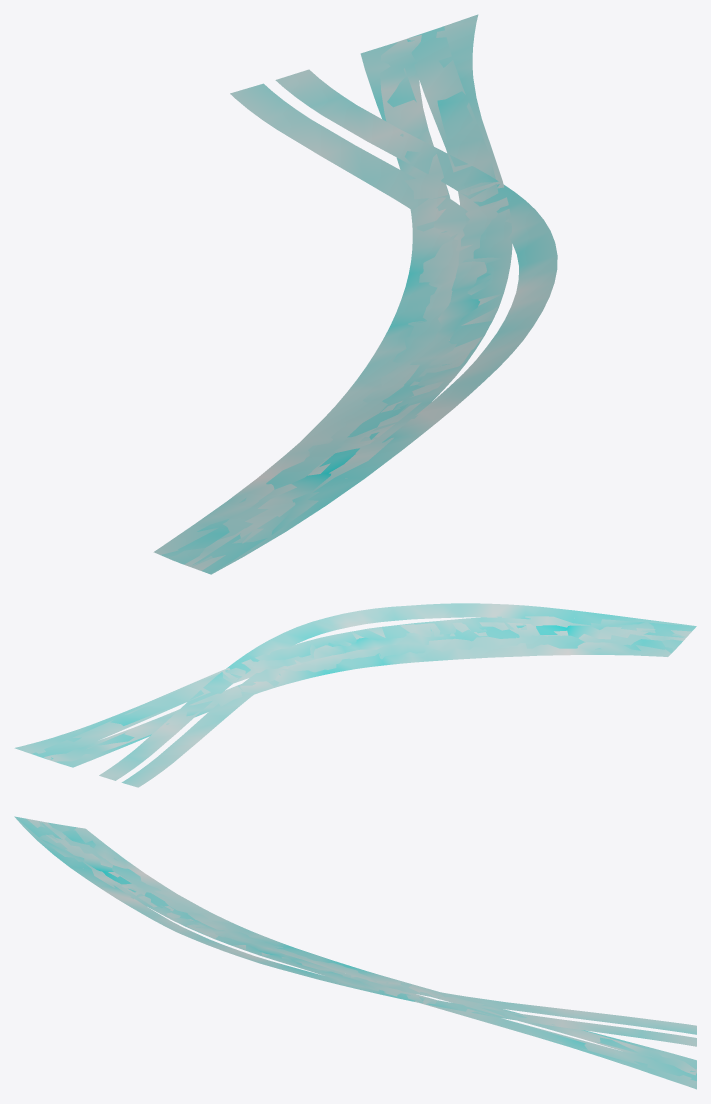
3 renders of one model, top to bottom at view 1: azimuth 30°, elevation 25°; view 2: azimuth 150°, elevation 25°; view 3: azimuth 270°, elevation 25°, orthographic. The views are drawn at different scales.
Visible parts, largest first — view 1: SpaceCenter_Long3_GenerateRoad_Sand_TireTracks_Narrow_Mesh_x; view 2: SpaceCenter_Long3_GenerateRoad_Sand_TireTracks_Narrow_Mesh_x; view 3: SpaceCenter_Long3_GenerateRoad_Sand_TireTracks_Narrow_Mesh_x.
Part boxes in pixels (box(x1,y1,x2,y2)): SpaceCenter_Long3_GenerateRoad_Sand_TireTracks_Narrow_Mesh_x: box(153, 14, 557, 574); SpaceCenter_Long3_GenerateRoad_Sand_TireTracks_Narrow_Mesh_x: box(14, 603, 696, 787); SpaceCenter_Long3_GenerateRoad_Sand_TireTracks_Narrow_Mesh_x: box(14, 816, 696, 1089).
Bounding box in the file's own units: 615 × 528 × 55.68.
